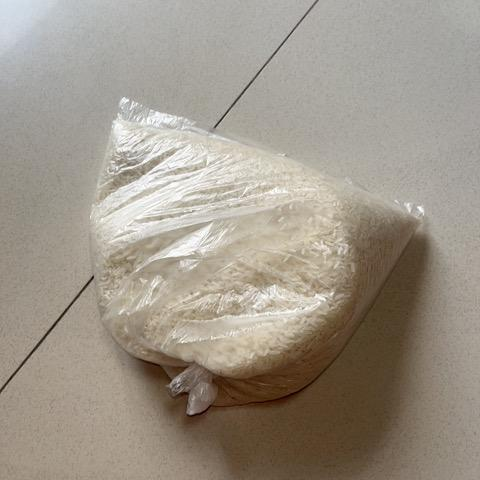rice: (87, 92, 428, 419)
